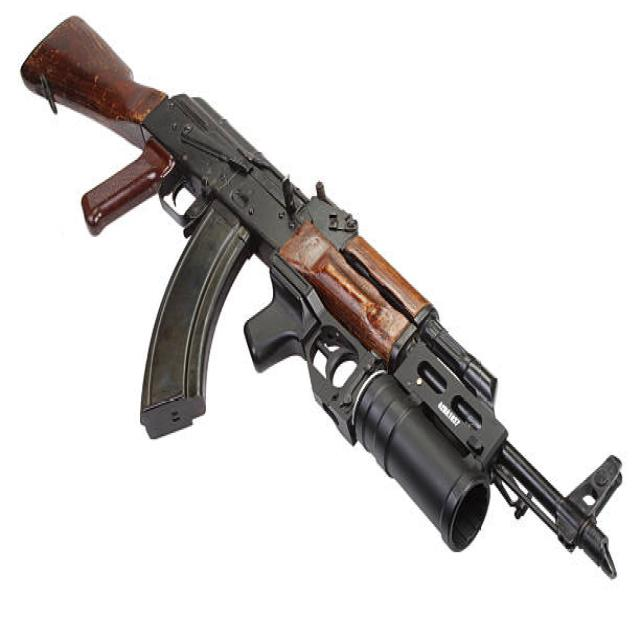rifle: (19, 3, 630, 591)
